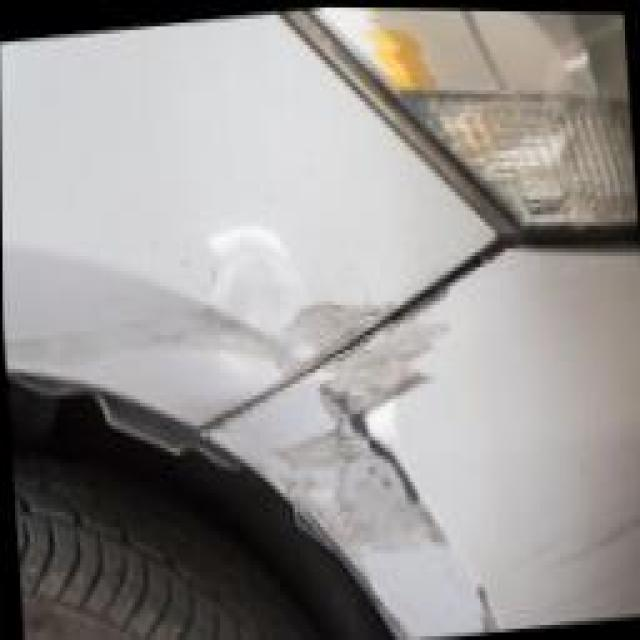Bumper: (212, 241, 625, 638)
Fender: (79, 99, 495, 437)
